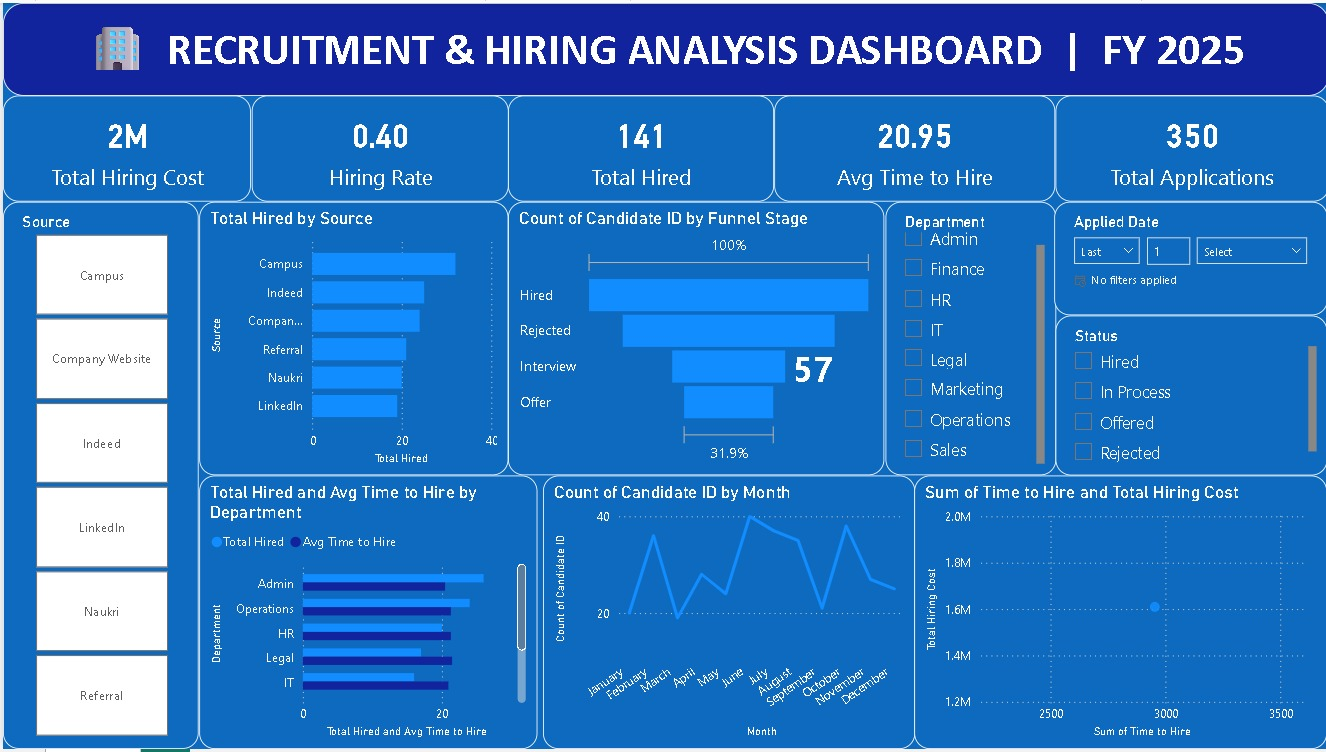

The page's visual inventory and layout, read from the dashboard file:
{"tool":"powerbi","page":{"name":"Page 1","canvas":[1280,720],"ordinal":0},"visuals":[{"type":"textbox","box":[0,0,1280.3,89.3],"z":0},{"type":"card","fields":{"Values":["Recruitment_Data.Total Hiring Cost"]},"box":[0,89.5,239.5,102.4],"z":3000},{"type":"card","fields":{"Values":["Recruitment_Data.Avg Time to Hire"]},"box":[744.5,89.5,271.2,102.4],"z":4000},{"type":"card","fields":{"Values":["Recruitment_Data.Total Applications"]},"box":[1015.7,89.5,264,102.4],"z":4002},{"type":"card","fields":{"Values":["Recruitment_Data.Total Hired"]},"box":[487.7,89.5,256.8,102.4],"z":4003},{"type":"card","fields":{"Values":["Recruitment_Data.Hiring Rate"]},"box":[239.5,89.5,248.2,102.4],"z":4004},{"type":"funnel","fields":{"Category":["Recruitment_Data.Funnel Stage"],"Y":["CountNonNull(Recruitment_Data.Candidate ID)"]},"box":[487.7,191.9,363.6,264],"z":4005},{"type":"lineChart","fields":{"Category":["Recruitment_Data.Applied Date.Variation.Date Hierarchy.Month"],"Y":["CountNonNull(Recruitment_Data.Candidate ID)"]},"box":[520.8,455.9,359.2,264],"z":4006},{"type":"barChart","fields":{"Category":["Recruitment_Data.Source"],"Y":["Recruitment_Data.Total Hired"]},"box":[189,191.9,298.7,264],"z":4007},{"type":"clusteredBarChart","fields":{"Category":["Recruitment_Data.Department"],"Y":["Recruitment_Data.Total Hired","Recruitment_Data.Avg Time to Hire"]},"box":[189,455.9,326.1,264],"z":4008},{"type":"scatterChart","fields":{"X":["Sum(Recruitment_Data.Time to Hire)"],"Y":["Recruitment_Data.Total Hiring Cost"]},"box":[880.1,455.9,398.2,264],"z":4009},{"type":"slicer","fields":{"Values":["Recruitment_Data.Department"]},"box":[851.2,191.9,164.5,264],"z":4010},{"type":"slicer","fields":{"Values":["Recruitment_Data.Source"]},"box":[0,191.9,189,528.1],"z":4011},{"type":"slicer","fields":{"Values":["Recruitment_Data.Status"]},"box":[1015.7,301.5,262.6,154.4],"z":4012},{"type":"slicer","fields":{"Values":["Recruitment_Data.Applied Date"]},"box":[1014.3,191.9,264,109.6],"z":4014}]}

Visuals, with their boxes in screenshot pixels (x1, y1, x2, y2), scaled from the page's 1280x720 canvas onto the 1326x752 screenshot:
textbox: 0, 0, 1325, 93
card - Recruitment_Data.Total Hiring Cost: 0, 93, 248, 200
card - Recruitment_Data.Avg Time to Hire: 771, 93, 1052, 200
card - Recruitment_Data.Total Applications: 1052, 93, 1325, 200
card - Recruitment_Data.Total Hired: 505, 93, 771, 200
card - Recruitment_Data.Hiring Rate: 248, 93, 505, 200
funnel - Recruitment_Data.Funnel Stage x CountNonNull(Recruitment_Data.Candidate ID): 505, 200, 882, 476
lineChart - Recruitment_Data.Applied Date.Variation.Date Hierarchy.Month x CountNonNull(Recruitment_Data.Candidate ID): 540, 476, 912, 751
barChart - Recruitment_Data.Source x Recruitment_Data.Total Hired: 196, 200, 505, 476
clusteredBarChart - Recruitment_Data.Department x Recruitment_Data.Total Hired: 196, 476, 534, 751
scatterChart - Sum(Recruitment_Data.Time to Hire) x Recruitment_Data.Total Hiring Cost: 912, 476, 1324, 751
slicer - Recruitment_Data.Department: 882, 200, 1052, 476
slicer - Recruitment_Data.Source: 0, 200, 196, 751
slicer - Recruitment_Data.Status: 1052, 315, 1324, 476
slicer - Recruitment_Data.Applied Date: 1051, 200, 1324, 315
